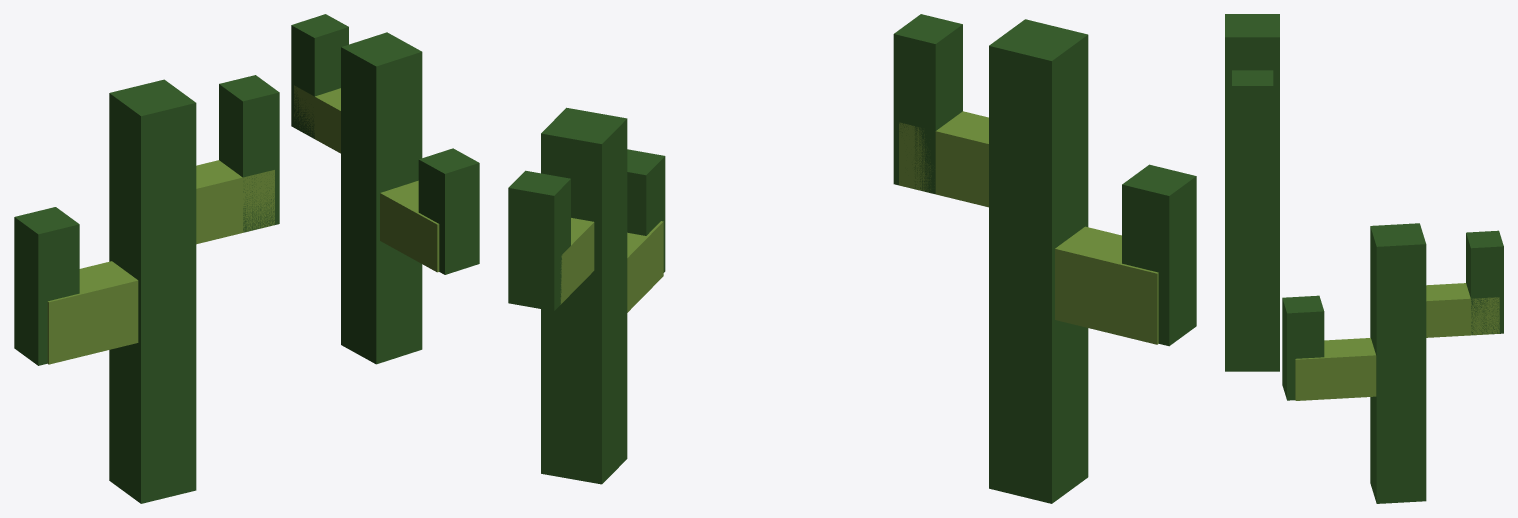
The model's file is CactusPair.fbx.
3 views of the same model, side by side, from view 1: azimuth 30°, elevation 25°; view 2: azimuth 150°, elevation 25°; view 3: azimuth 270°, elevation 25° (orthographic). The views are drawn at different scales.
Parts seen in each view (by area): view 1: CactusPair; view 2: CactusPair; view 3: CactusPair.
Part boxes in pixels (x1,y1,x2,y2): CactusPair: (14,14,479,503); CactusPair: (508,14,1196,503); CactusPair: (1225,14,1503,503).
Size of the model in its own units: 68.1 by 53.2 by 40.18.
